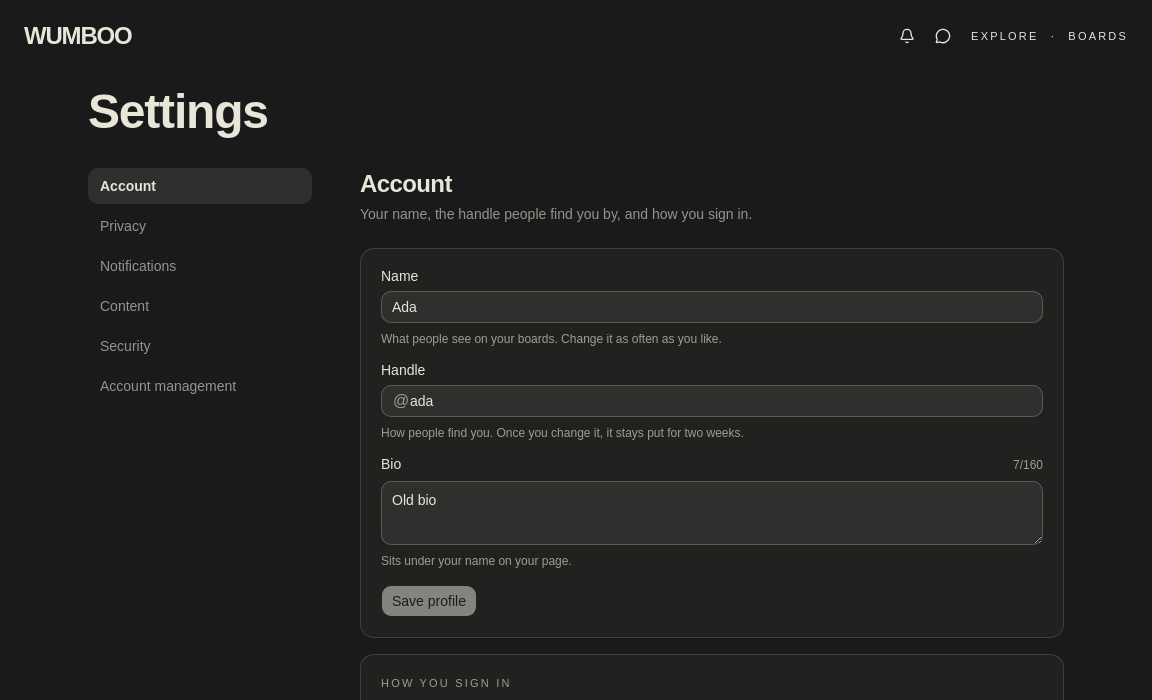
Scenario: SettingsPage › opens on Account and moves between sections from the list
Expected: the heading "Account" is shown, x1=360 y1=170 x2=452 y2=197
Click the link "Notifications" at (138, 266), box x1=100 y1=258 x2=176 y2=274
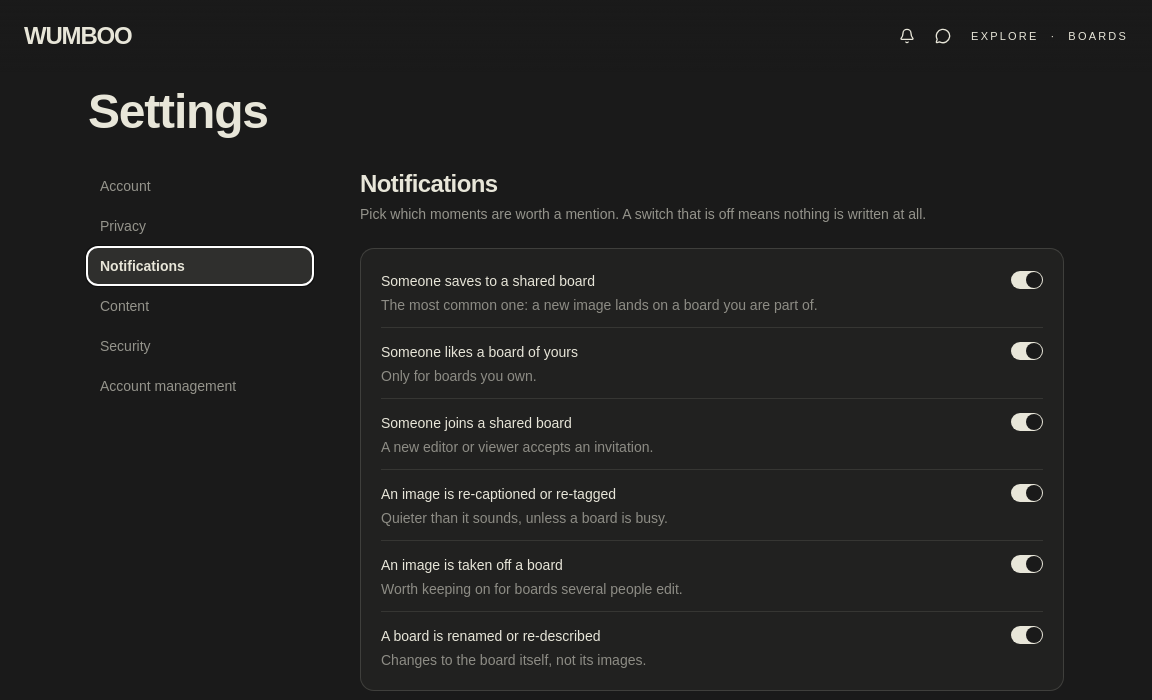
Now the heading "Notifications" is shown, box x1=360 y1=170 x2=498 y2=197
Click the link "Security" at (125, 346), box x1=100 y1=338 x2=151 y2=354
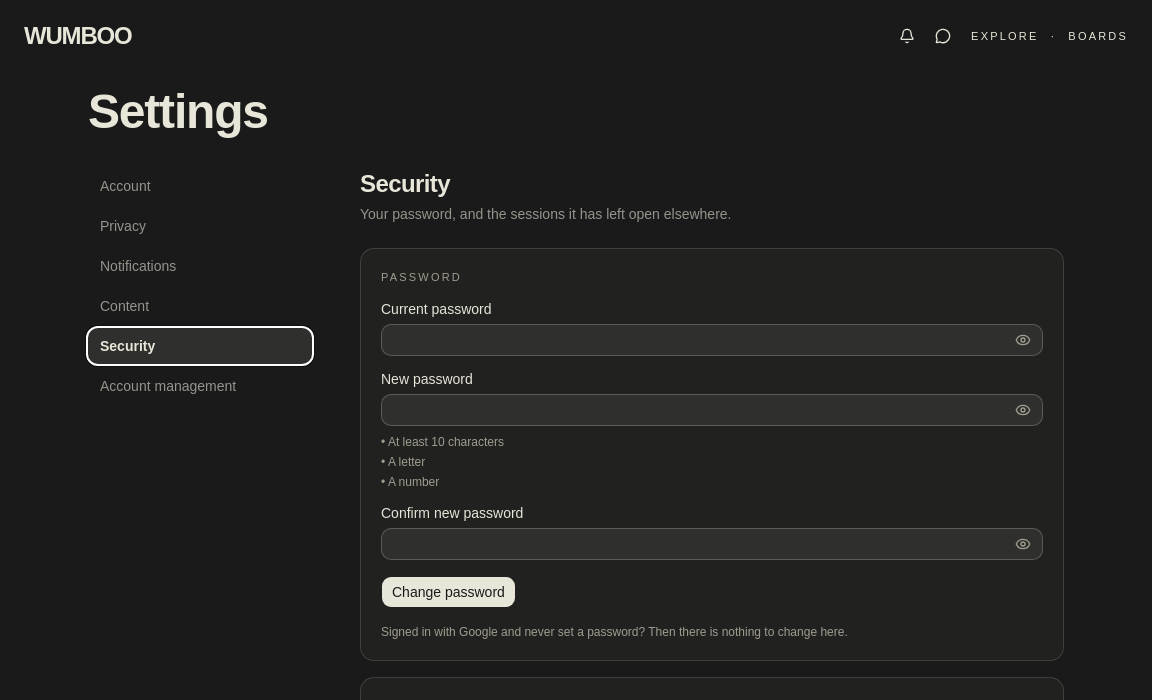
Now the password field labelled "Current password" is shown, box x1=381 y1=324 x2=1043 y2=356
